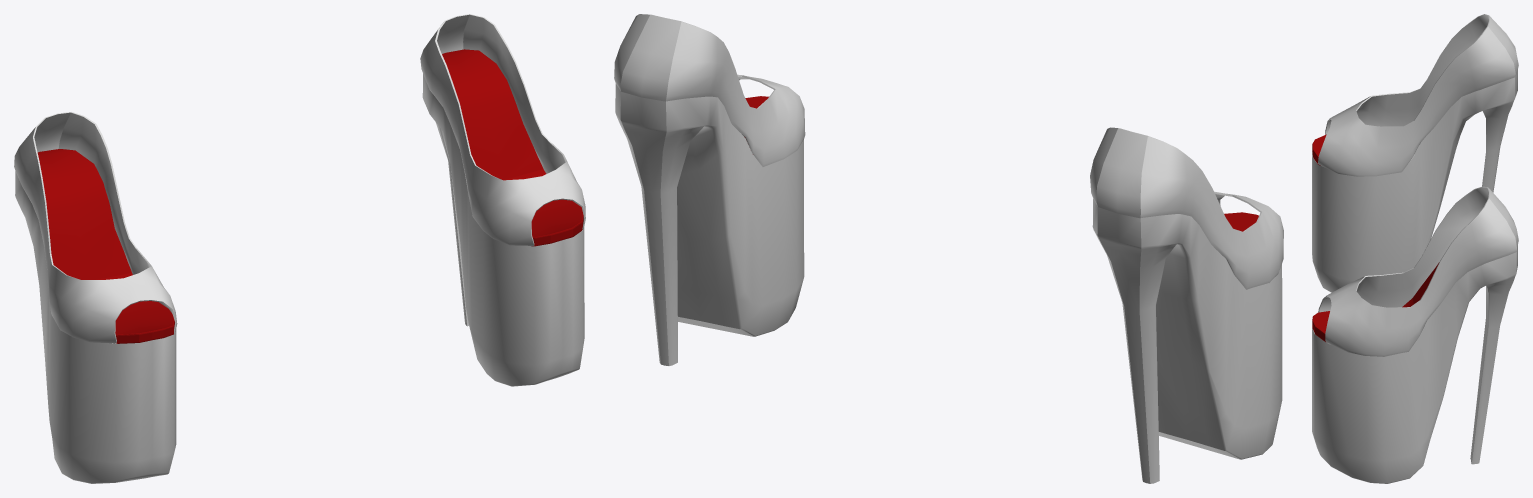
The model's file is LadyGagaShoes.fbx.
3 renders of one model, left to right at view 1: azimuth 30°, elevation 25°; view 2: azimuth 150°, elevation 25°; view 3: azimuth 270°, elevation 25°, orthographic. The views are drawn at different scales.
Visible parts, largest first — view 1: HighHeels_Right, HighHeels_Left; view 2: HighHeels_Right, HighHeels_Left; view 3: HighHeels_Left, HighHeels_Right.
Part boxes in pixels (x1,y1,x2,y2): HighHeels_Right: (14, 112, 177, 483); HighHeels_Left: (420, 14, 585, 386); HighHeels_Right: (1090, 127, 1283, 483); HighHeels_Left: (614, 14, 805, 365); HighHeels_Left: (1312, 186, 1518, 483); HighHeels_Right: (1312, 14, 1518, 292).
Bounding box in the file's own units: 4560 × 2583 × 1798.
